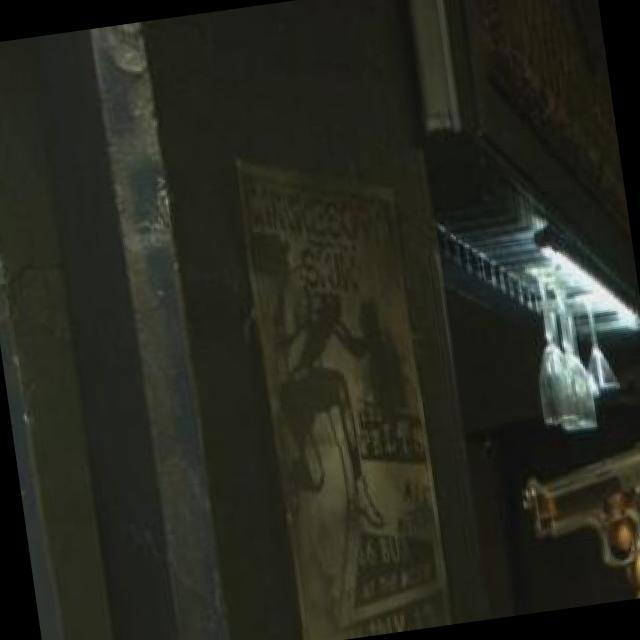Guns: (499, 422, 640, 615)
